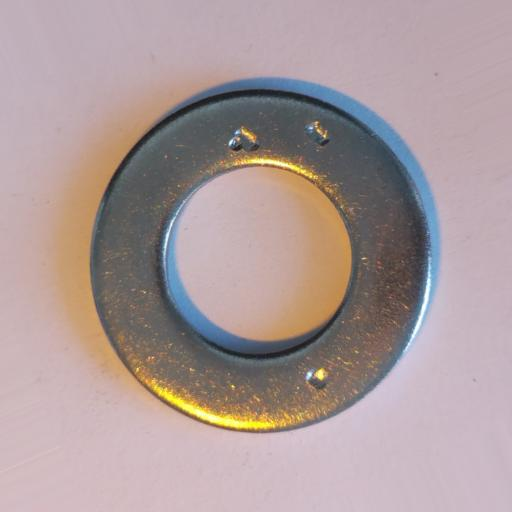circular_cavity: (228, 125, 261, 152), (306, 121, 331, 145), (304, 366, 329, 389)
